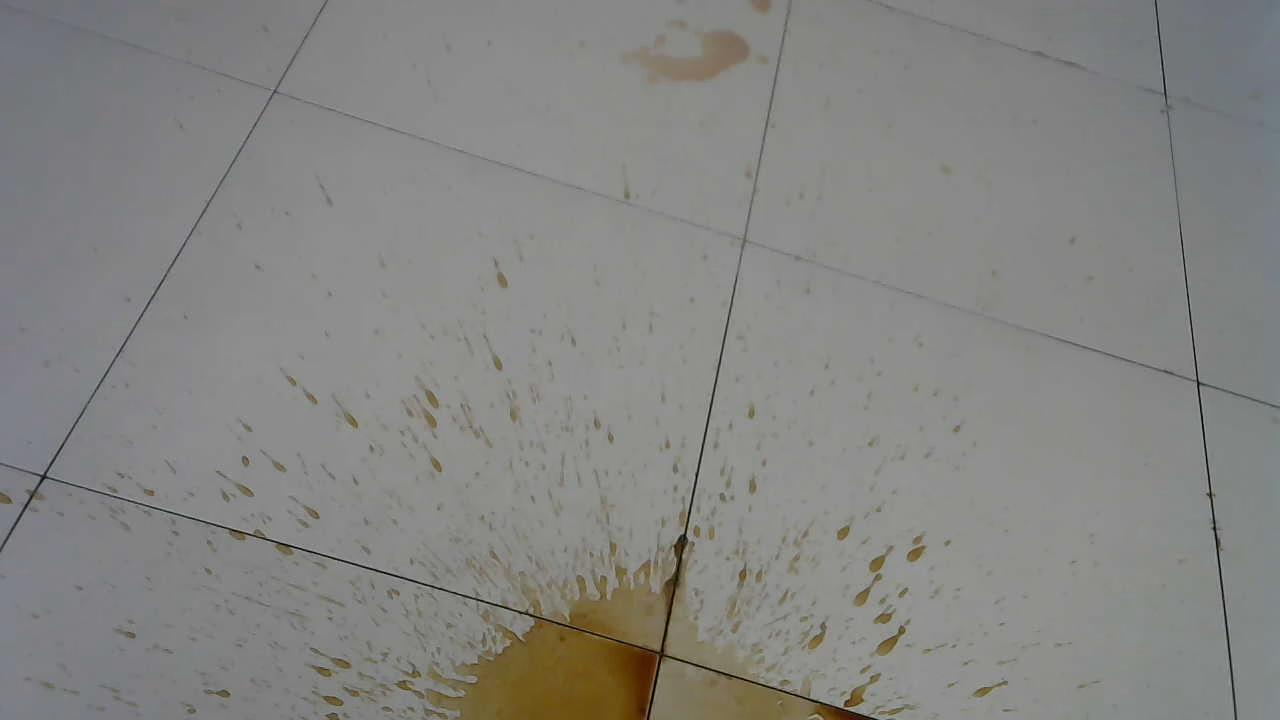dirty_floor: (217, 324, 1031, 720), (615, 12, 769, 96)
